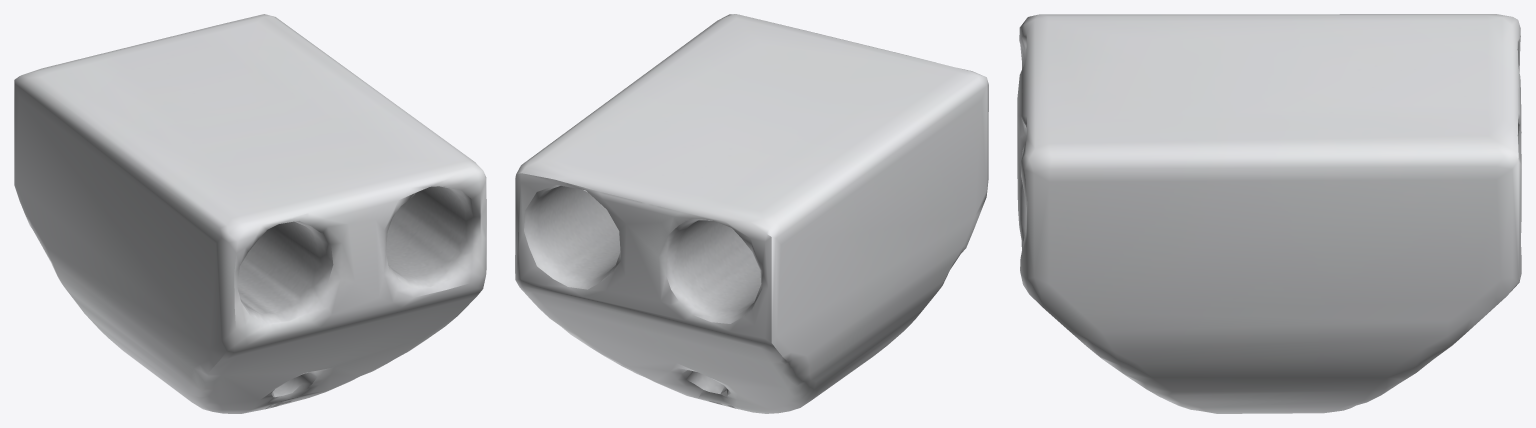
Rendered from right_finger4_middle.obj.
The picture shows the model from 3 angles, left to right: view 1: azimuth 30°, elevation 25°; view 2: azimuth 150°, elevation 25°; view 3: azimuth 270°, elevation 25°; orthographic projection. The views are drawn at different scales.
Visible parts, largest first — view 1: right_finger4_middle; view 2: right_finger4_middle; view 3: right_finger4_middle.
Boxes of the visible parts, <box> form: right_finger4_middle: <box>14,14,486,413</box>; right_finger4_middle: <box>515,14,988,413</box>; right_finger4_middle: <box>1017,14,1521,413</box>.
Size of the model in its own units: 0.0105 by 0.0104 by 0.0151.
1 material, 1 textured.
